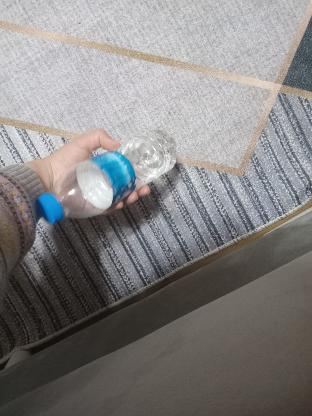Plastic Bottle: (40, 125, 196, 227)
